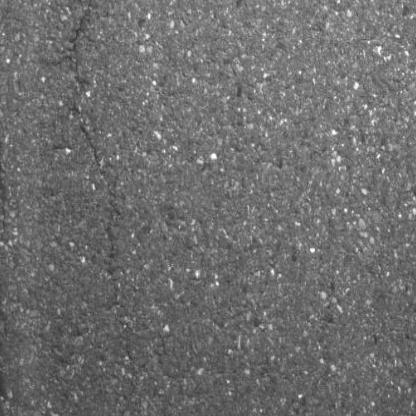Cracks: (67, 0, 121, 265), (0, 0, 13, 259), (103, 266, 137, 365), (0, 266, 14, 343)
